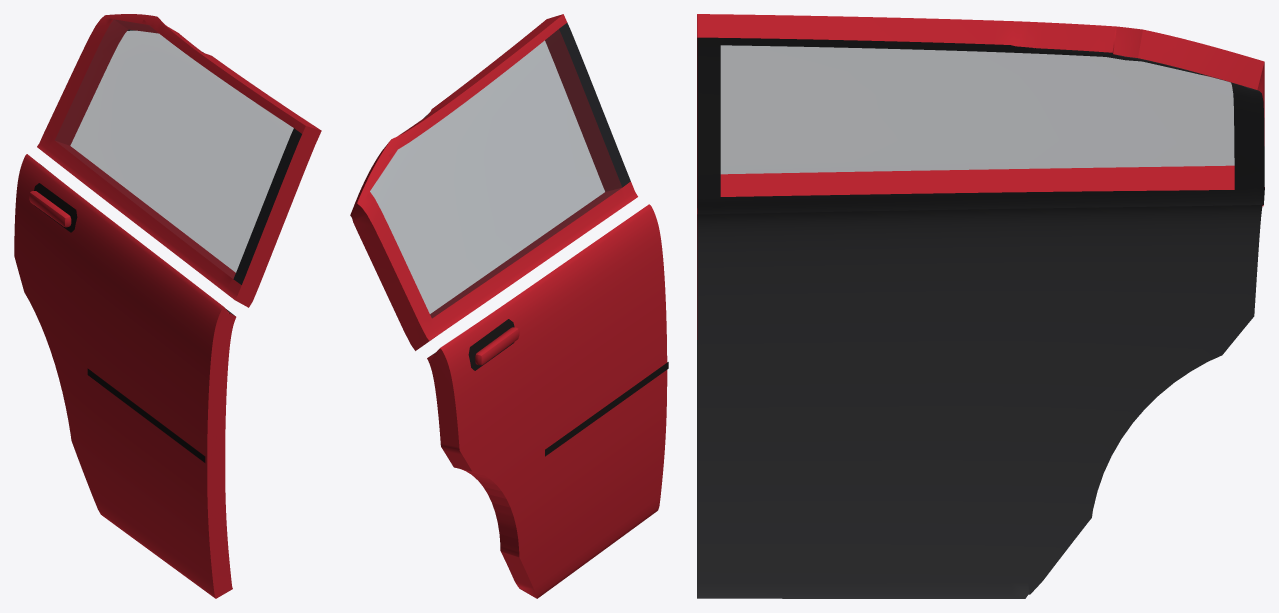
The model's file is door_rear_right.glb.
3 renders of one model, left to right at view 1: azimuth 30°, elevation 25°; view 2: azimuth 150°, elevation 25°; view 3: azimuth 270°, elevation 25°, orthographic. The views are drawn at different scales.
Visible parts, largest first — view 1: door_rear_right; view 2: door_rear_right; view 3: door_rear_right.
Part boxes in pixels (left/top/right/bottom): door_rear_right: left=14, top=14, right=321, bottom=598; door_rear_right: left=350, top=14, right=668, bottom=598; door_rear_right: left=697, top=14, right=1264, bottom=598.
Size of the model in its own units: 0.2973 by 1.08 by 0.8614.
